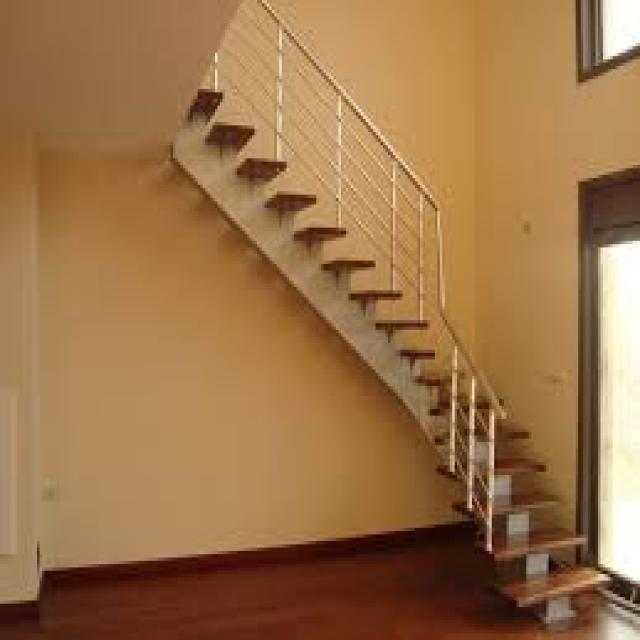stairs: (168, 56, 610, 627)
